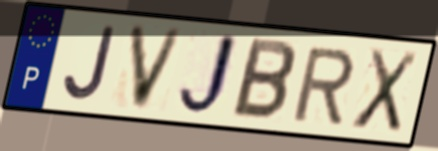B: (228, 34, 299, 123)
J: (174, 29, 242, 120), (60, 23, 119, 103)
R: (289, 45, 358, 126)
V: (126, 22, 187, 114)
X: (348, 46, 422, 135)
